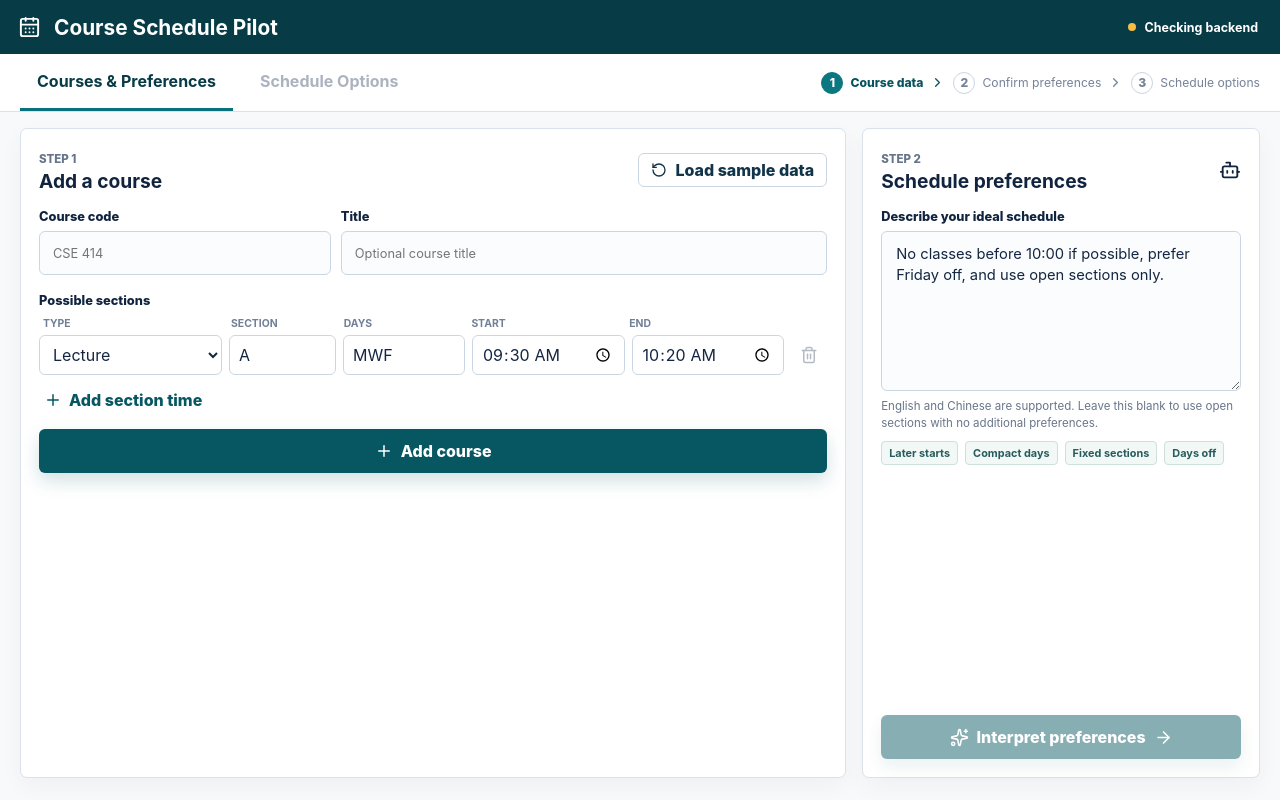
Test: App › supports lecture and lab groups without inventing other components
In the field labelled "Course code": [185, 253] box [39,231,331,275], type "CHEM 142"
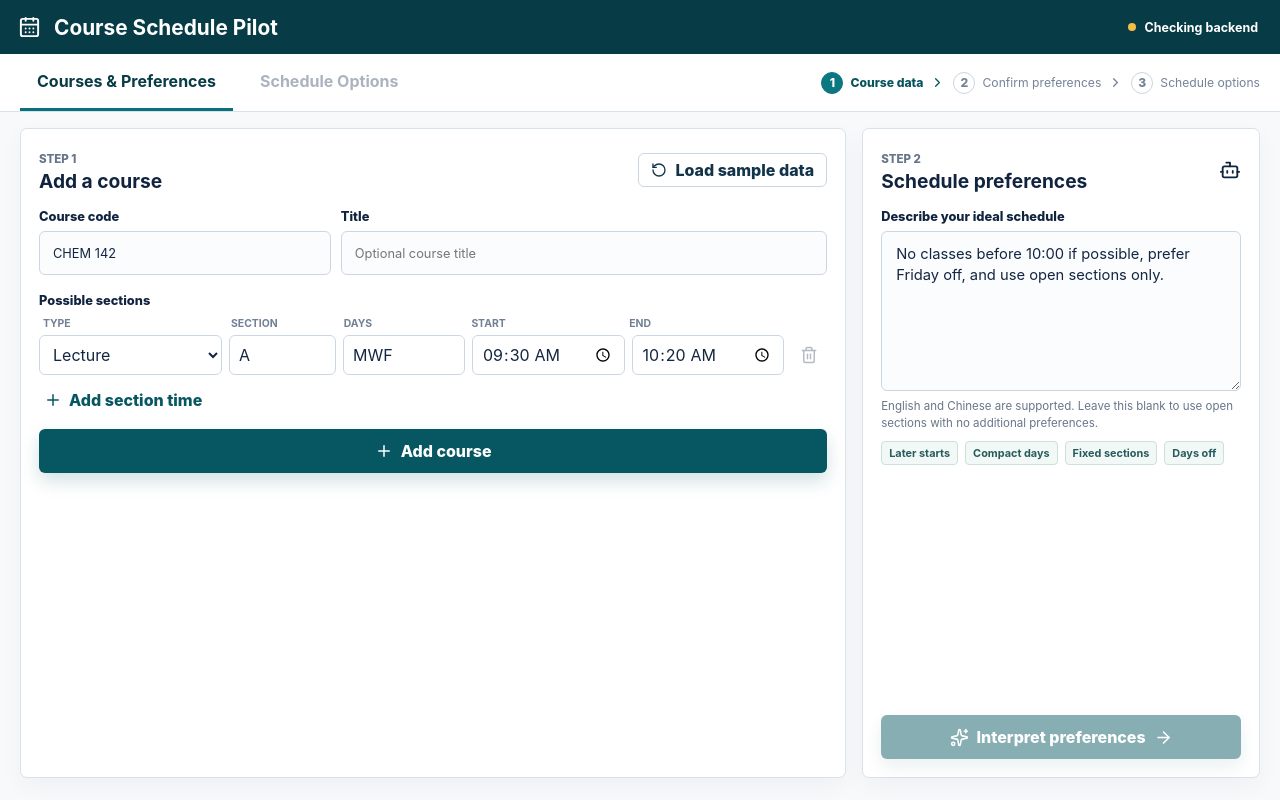
Click the button "Add section time": [123, 400] box [39,383,207,417]
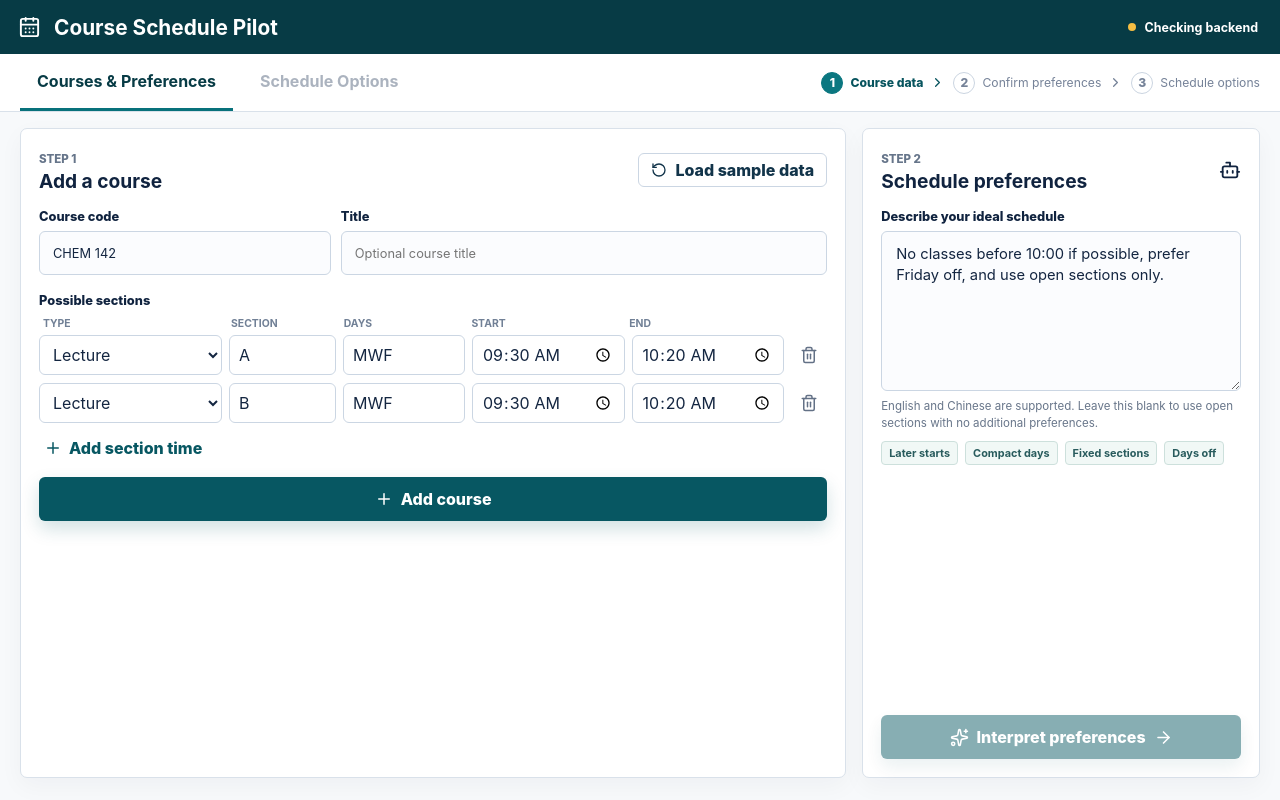
Select "Lab" in the dropdown named "Section 2 type": [131, 403] box [39,383,222,423]
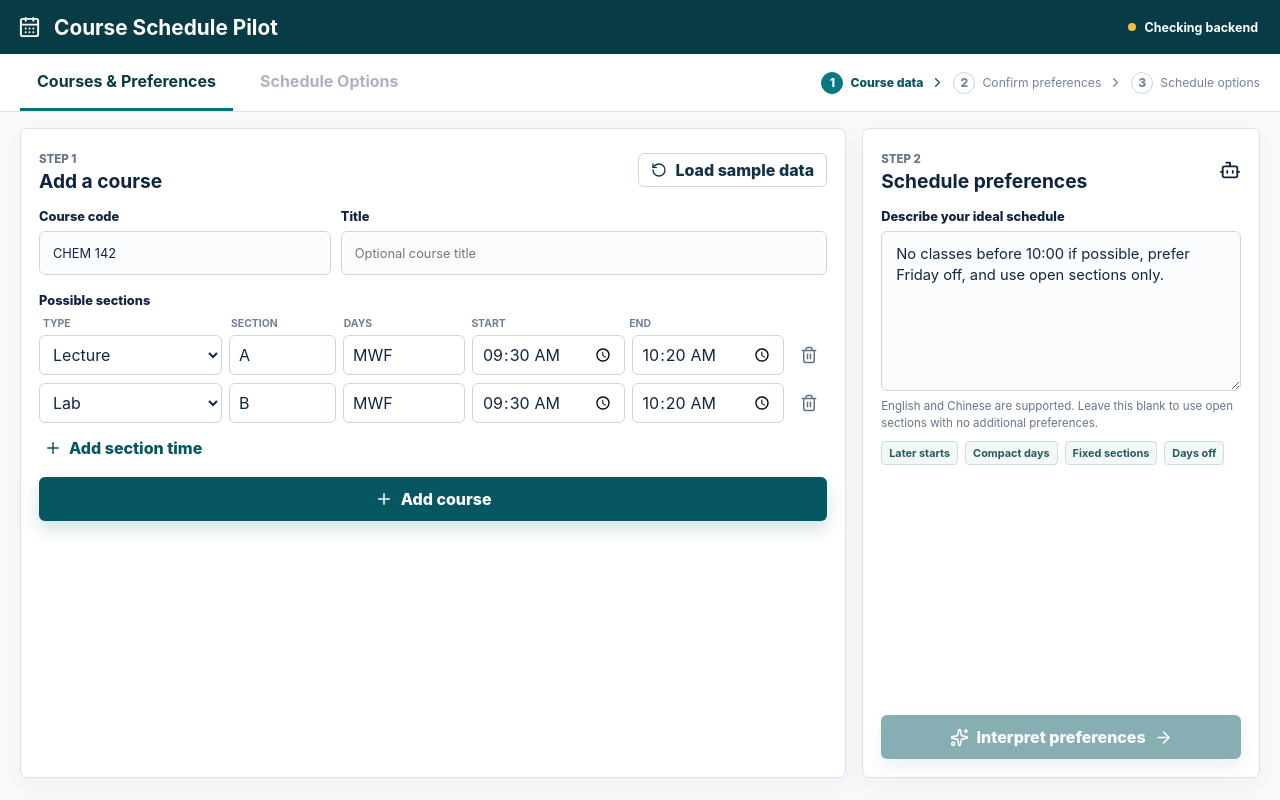
Replace the text in the field named "Section 2 ID" with "AL": [282, 403] box [229,383,336,423]
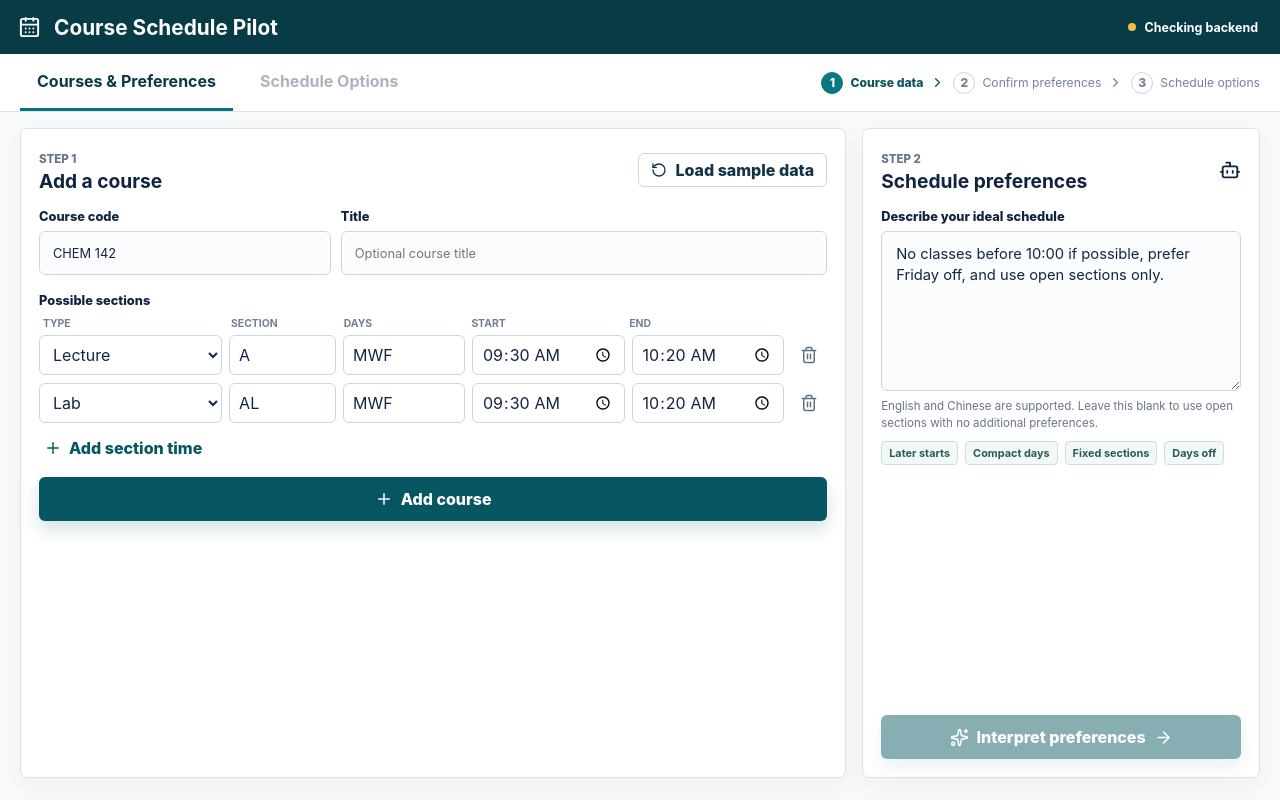
Click the button "Add course": [433, 499] box [39,477,827,521]
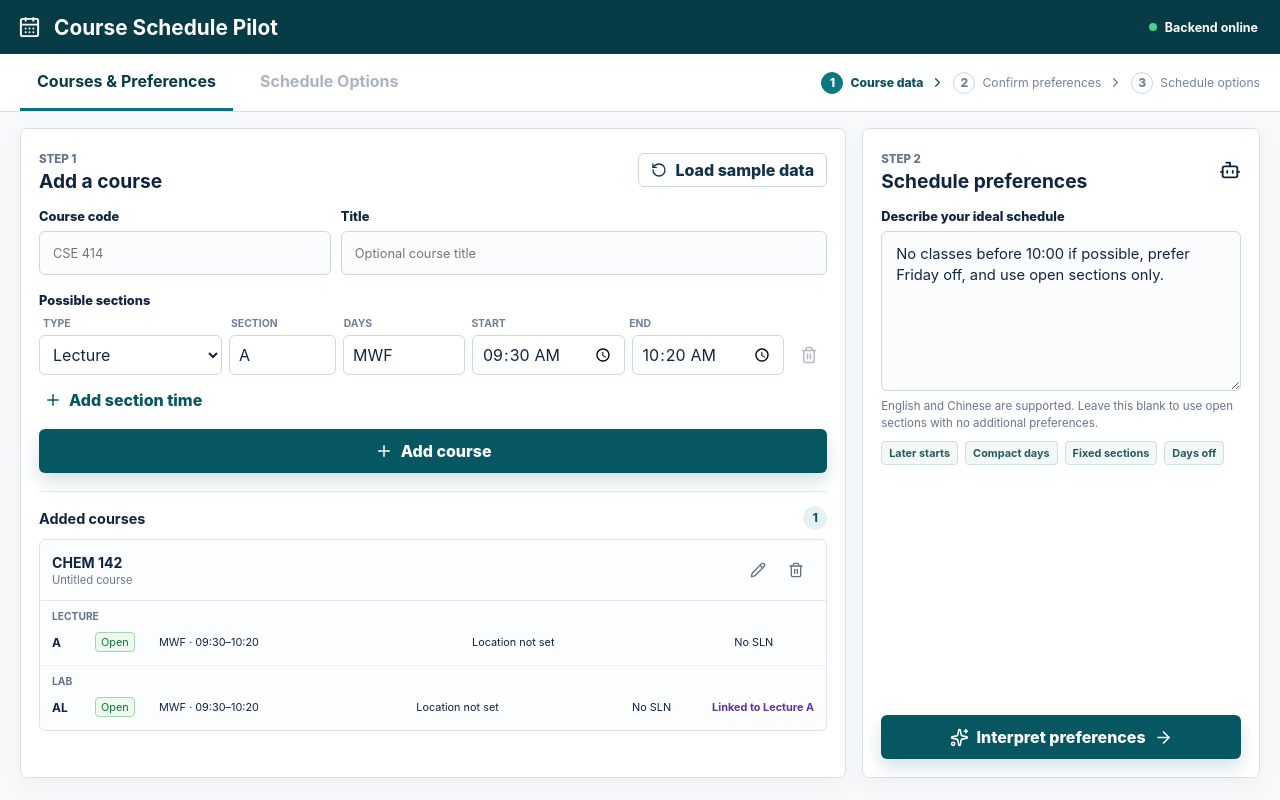
Expected: the heading "CHEM 142" is shown, [52,554,132,570]
Expected: the heading "lecture" is shown, [52,610,99,622]
Expected: the heading "lab" is shown, [52,675,72,687]
